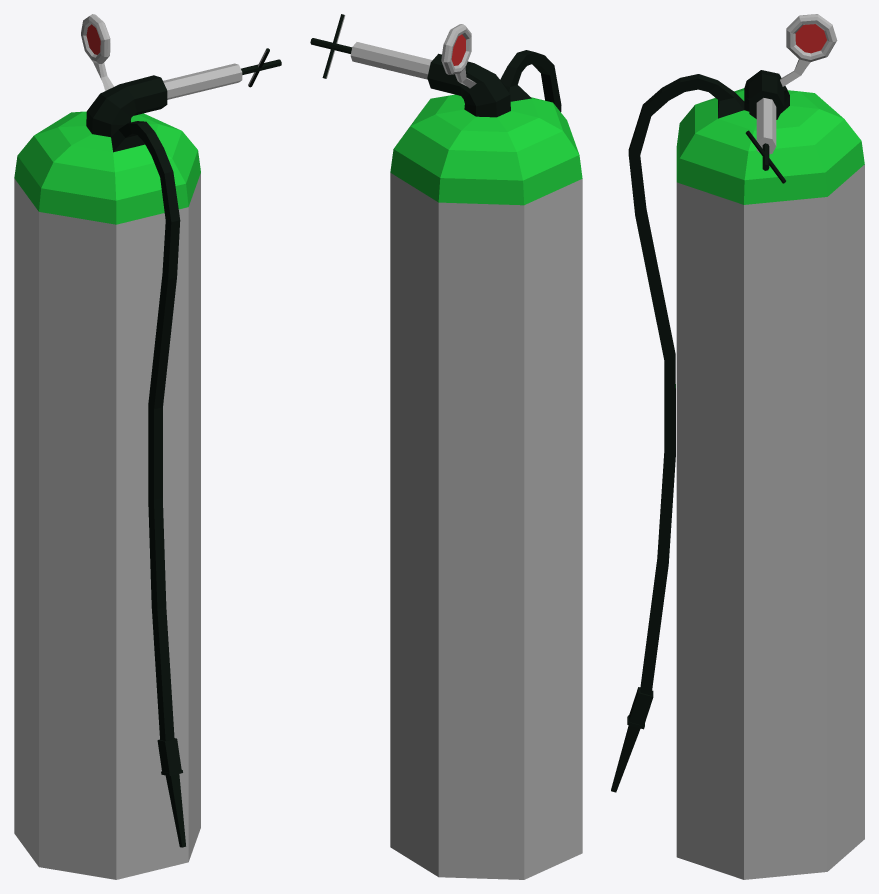
Rendered from bombona.fbx.
3 views of the same model, side by side, from view 1: azimuth 30°, elevation 25°; view 2: azimuth 150°, elevation 25°; view 3: azimuth 270°, elevation 25° (orthographic). The views are drawn at different scales.
Parts seen in each view (by area): view 1: Bombona; view 2: Bombona; view 3: Bombona.
Part boxes in pixels (left/top/right/bottom): Bombona: left=14, top=14, right=281, bottom=879; Bombona: left=310, top=14, right=582, bottom=879; Bombona: left=611, top=14, right=864, bottom=879.
Size of the model in its own units: 303 by 925 by 256.
